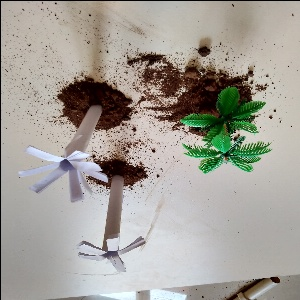plant: (180, 82, 268, 176)
weed: (13, 97, 103, 205), (84, 172, 144, 272)
